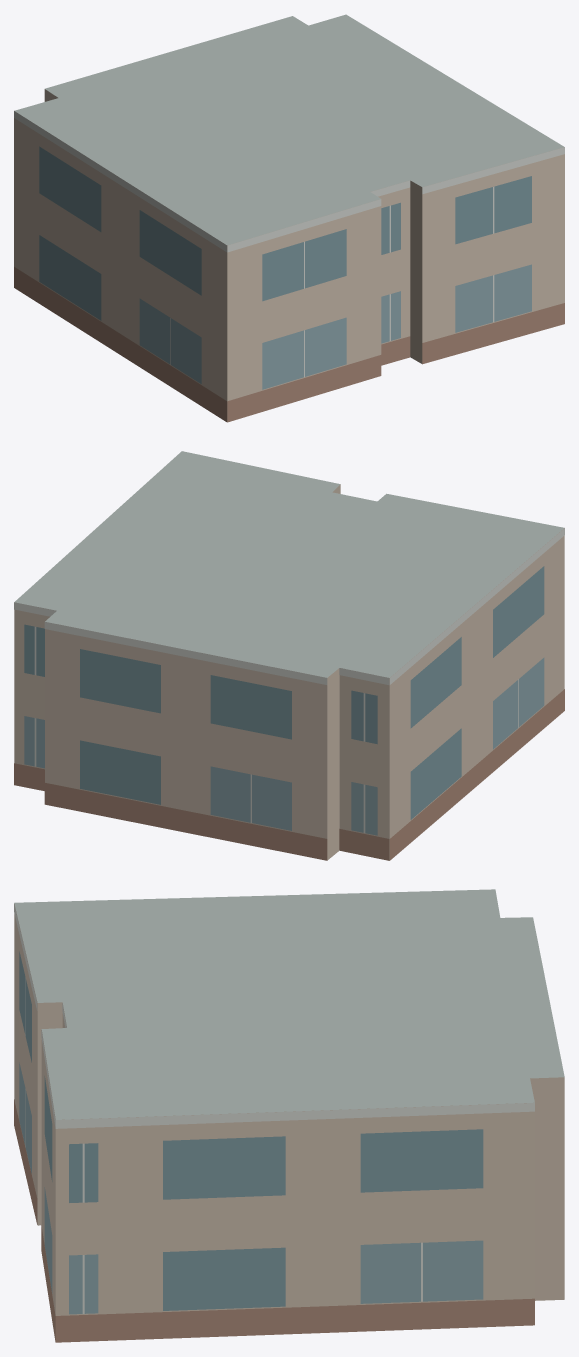
File: survey-upis-32978335.glb
3 views of the same model, one above another, from view 1: azimuth 30°, elevation 25°; view 2: azimuth 150°, elevation 25°; view 3: azimuth 270°, elevation 25° (orthographic). The views are drawn at different scales.
Visible parts, largest first — view 1: survey-upis-32978335.tmp; view 2: survey-upis-32978335.tmp; view 3: survey-upis-32978335.tmp.
Part boxes in pixels (x1,y1,x2,y2): survey-upis-32978335.tmp: (14,14,564,422); survey-upis-32978335.tmp: (14,451,564,860); survey-upis-32978335.tmp: (14,889,564,1342).
Size of the model in its own units: 13.57 by 6.1 by 13.69.
